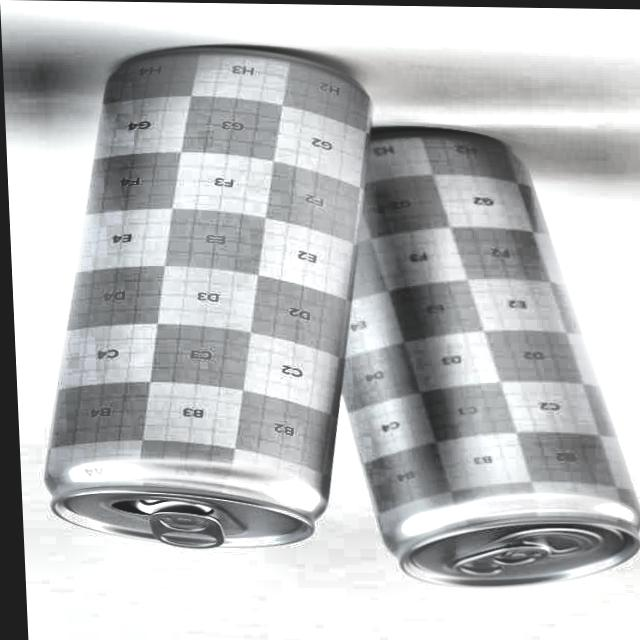can: (21, 39, 391, 561), (314, 122, 640, 599)
